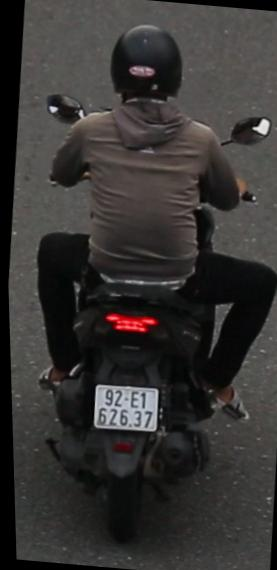LP: (87, 378, 161, 439)
helmet: (98, 14, 196, 124)
